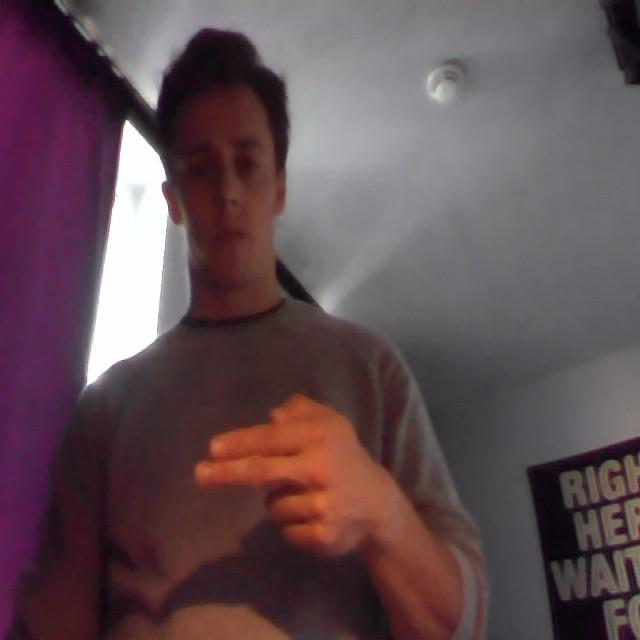left: (189, 396, 381, 556)
